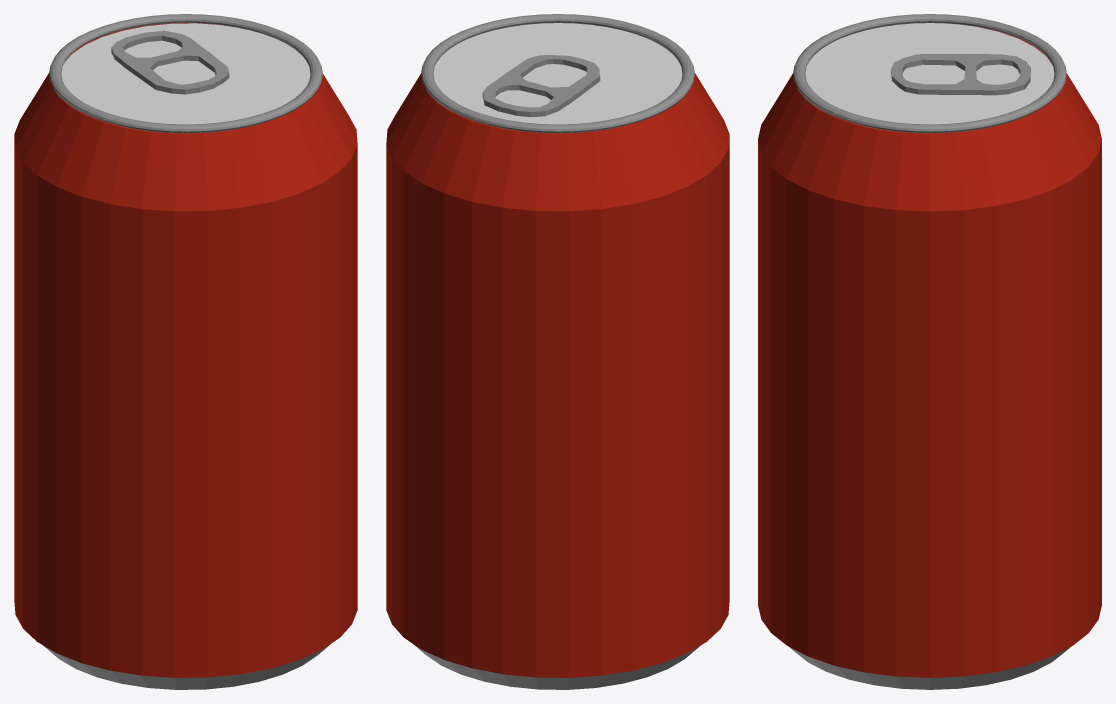
File: soda_can.glb
3 renders of one model, left to right at view 1: azimuth 30°, elevation 25°; view 2: azimuth 150°, elevation 25°; view 3: azimuth 270°, elevation 25°, orthographic.
Parts seen in each view (by area): view 1: Cylinder.001; view 2: Cylinder.001; view 3: Cylinder.001.
Boxes of the visible parts, <box> form: Cylinder.001: <box>14,14,357,689</box>; Cylinder.001: <box>386,14,729,689</box>; Cylinder.001: <box>758,14,1101,689</box>.
Size of the model in its own units: 2 by 3.58 by 2.
